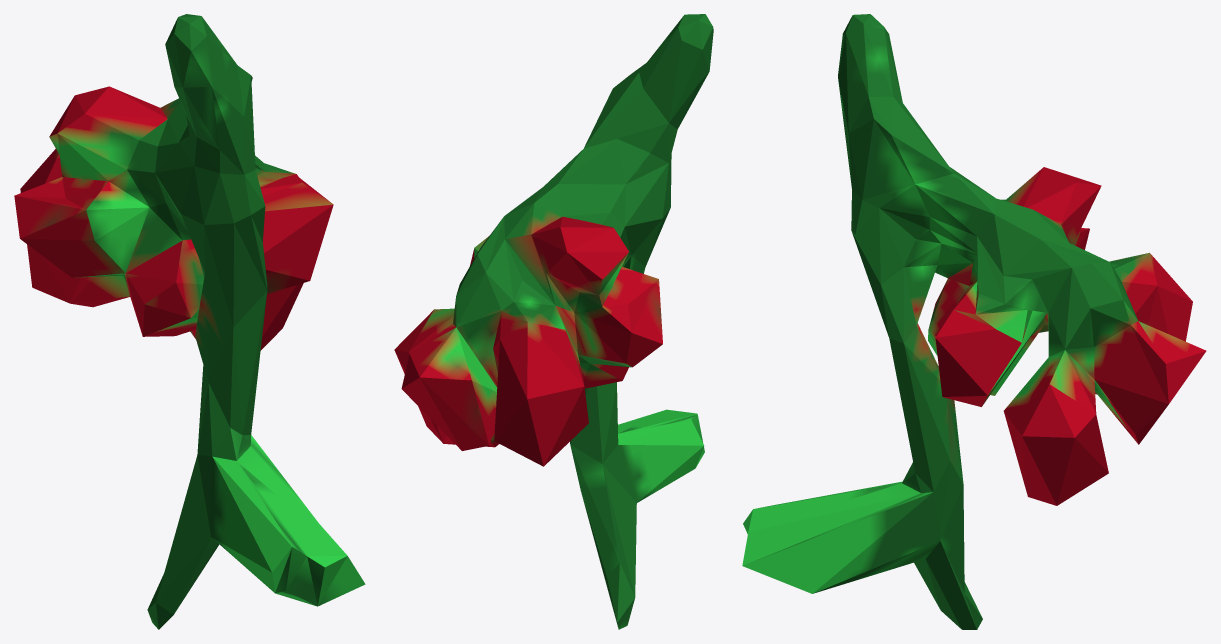
Rendered from Tomato.fbx.
The picture shows the model from 3 angles, left to right: view 1: azimuth 30°, elevation 25°; view 2: azimuth 150°, elevation 25°; view 3: azimuth 270°, elevation 25°; orthographic projection. The views are drawn at different scales.
Parts seen in each view (by area): view 1: Tomato; view 2: Tomato; view 3: Tomato.
Part boxes in pixels (left/top/right/bottom): Tomato: left=14, top=14, right=365, bottom=629; Tomato: left=394, top=14, right=713, bottom=629; Tomato: left=742, top=14, right=1206, bottom=629.
Bounding box in the file's own units: 359 × 771 × 539.
1 material, 1 textured.
